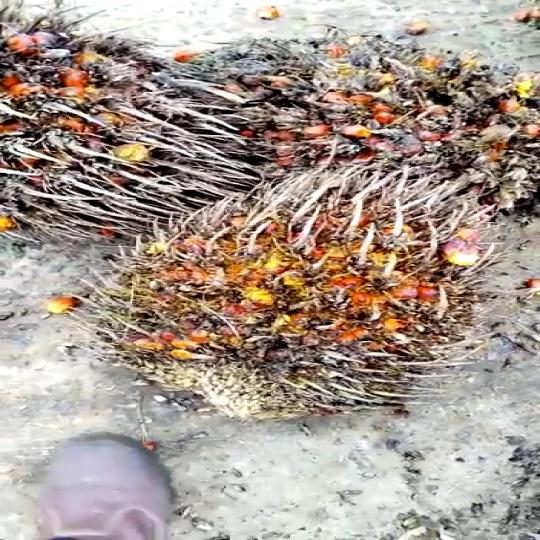terlalu masak: (86, 173, 522, 426), (178, 43, 540, 187)
